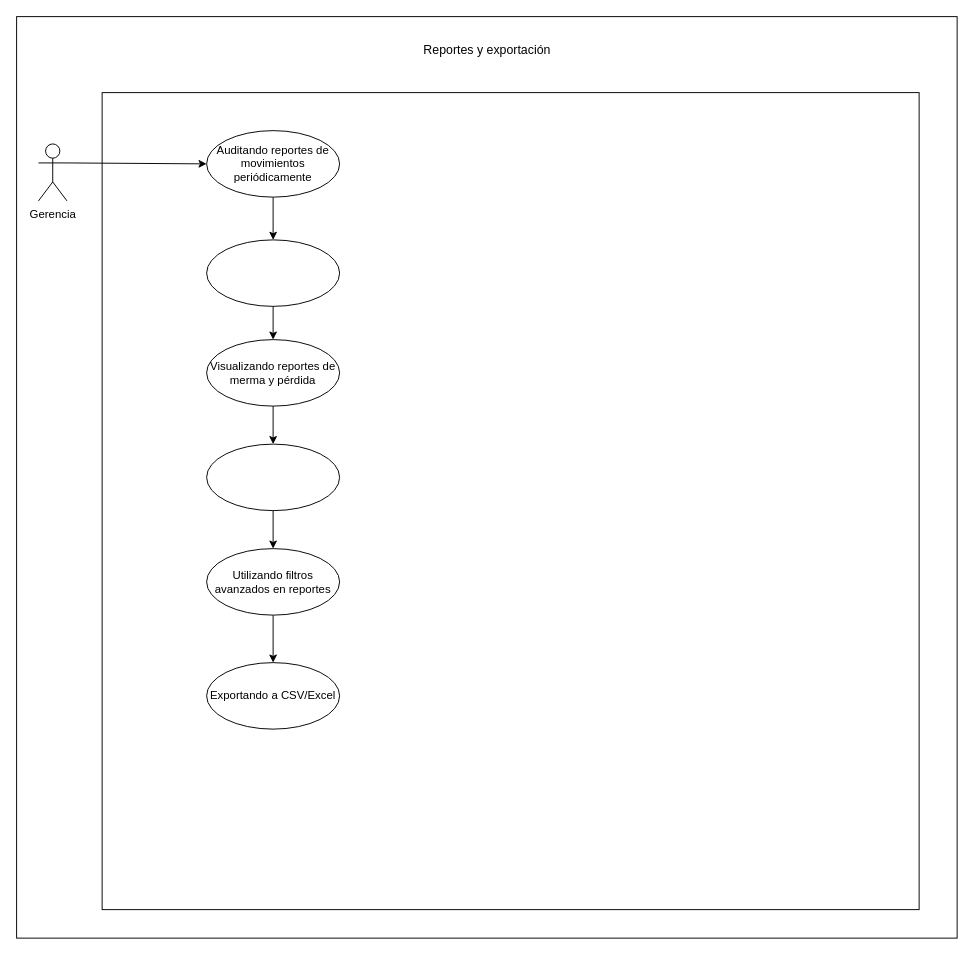
The diagram is 974 pixels wide and 955 high, and some of its shapes have lost their labels. Each missing label, with the centre of its shape:
"Analizando el índice de rotación" belongs at pixel 273 272.
"Visualizando reportes históricos consolidados" belongs at pixel 273 477.
